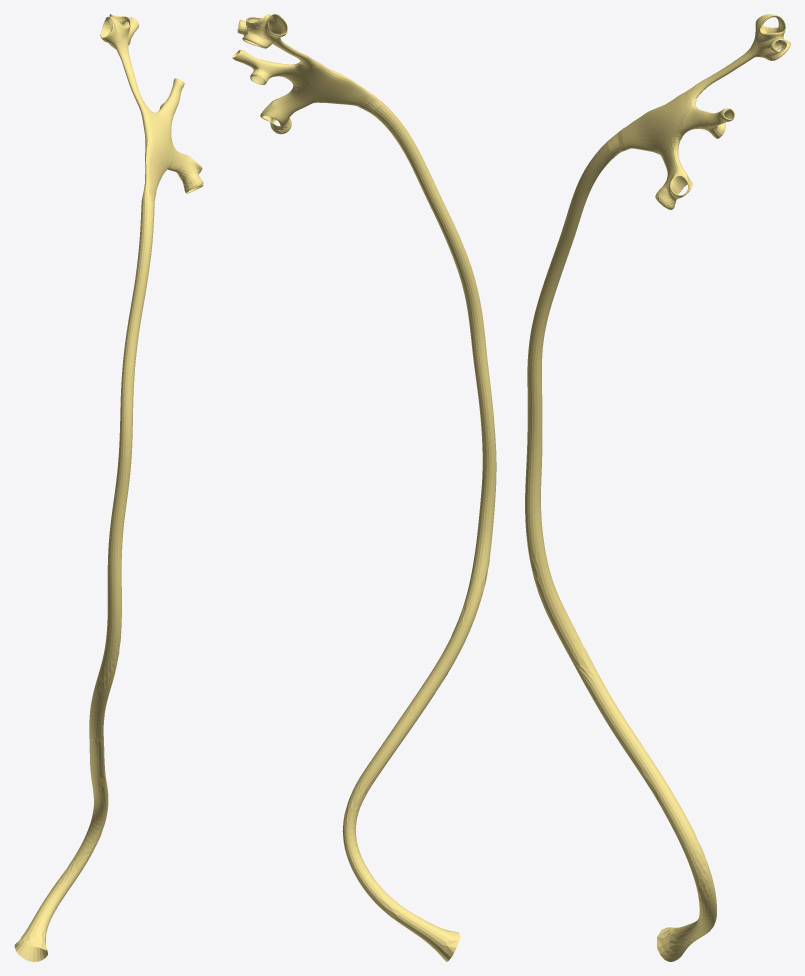
The model's file is organ-renal-pelvis-ureter.glb.
3 views of the same model, side by side, from view 1: azimuth 30°, elevation 25°; view 2: azimuth 150°, elevation 25°; view 3: azimuth 270°, elevation 25° (orthographic). The views are drawn at different scales.
Parts seen in each view (by area): view 1: ureter, renal-pelvis, minor-calyx, major-calyx; view 2: ureter, minor-calyx, renal-pelvis, major-calyx; view 3: ureter, renal-pelvis, minor-calyx, major-calyx.
Boxes of the visible parts, x1,y1,x2,y2 form: ureter: [14, 185, 155, 961]; renal-pelvis: [141, 111, 173, 193]; minor-calyx: [100, 14, 203, 193]; major-calyx: [115, 37, 194, 178]; ureter: [342, 94, 496, 961]; minor-calyx: [232, 14, 291, 134]; renal-pelvis: [291, 60, 371, 106]; major-calyx: [259, 29, 314, 119]; ureter: [525, 129, 716, 961]; renal-pelvis: [621, 91, 696, 154]; minor-calyx: [655, 14, 790, 209]; major-calyx: [660, 37, 760, 185].
Size of the model in its own units: 0.0655 by 0.2939 by 0.0698.
